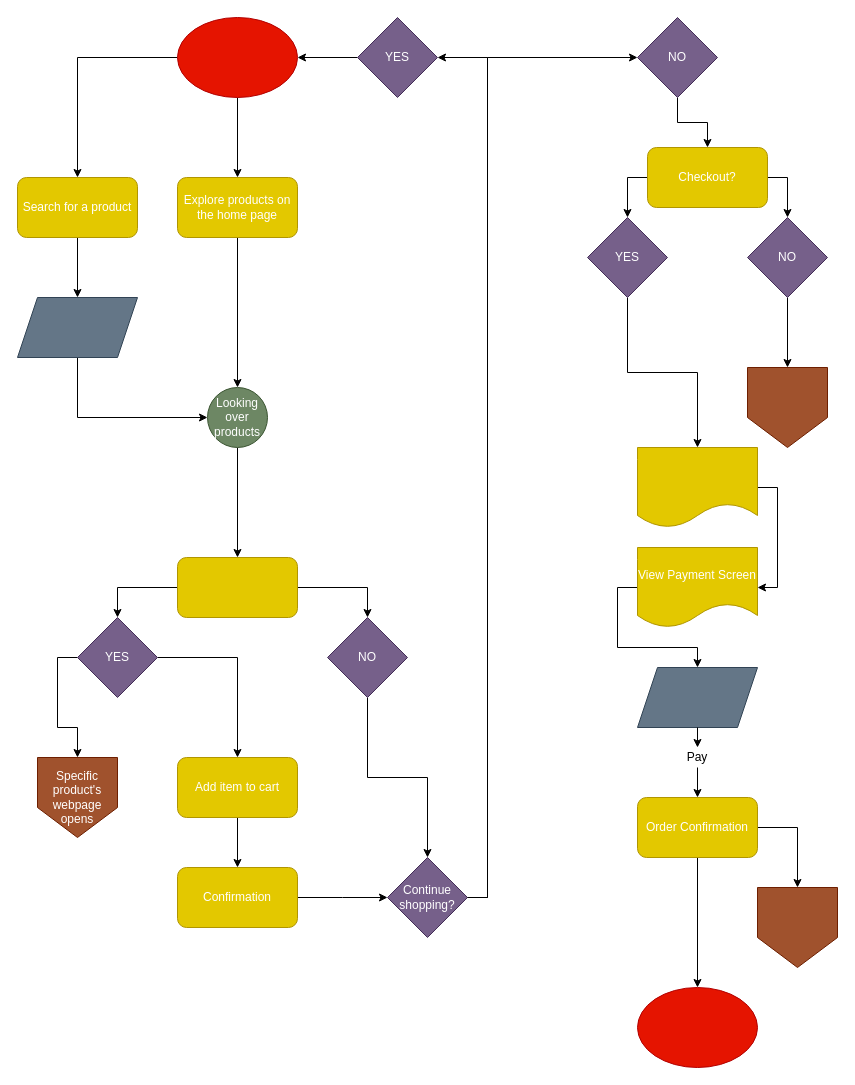
Image size: 855x1085. Some labels were removed from this diagram. The centre of each missing label's shape, as x and y in pixels:
Leave Website: point 787,407
Payment Information: point 697,697
Recieve Confirmation Email: point 797,927
User enters website: point 237,57
User Input: point 77,327
User leaves website: point 697,1027
View a specific product: point 237,587
View Cart Screen: point 697,487
